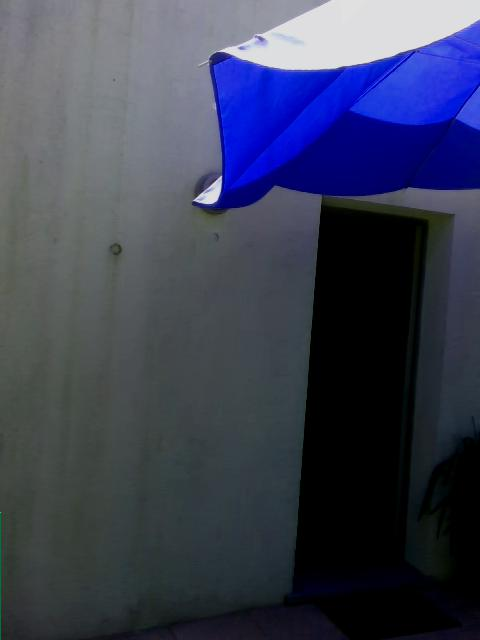open_door: (292, 194, 455, 592)
